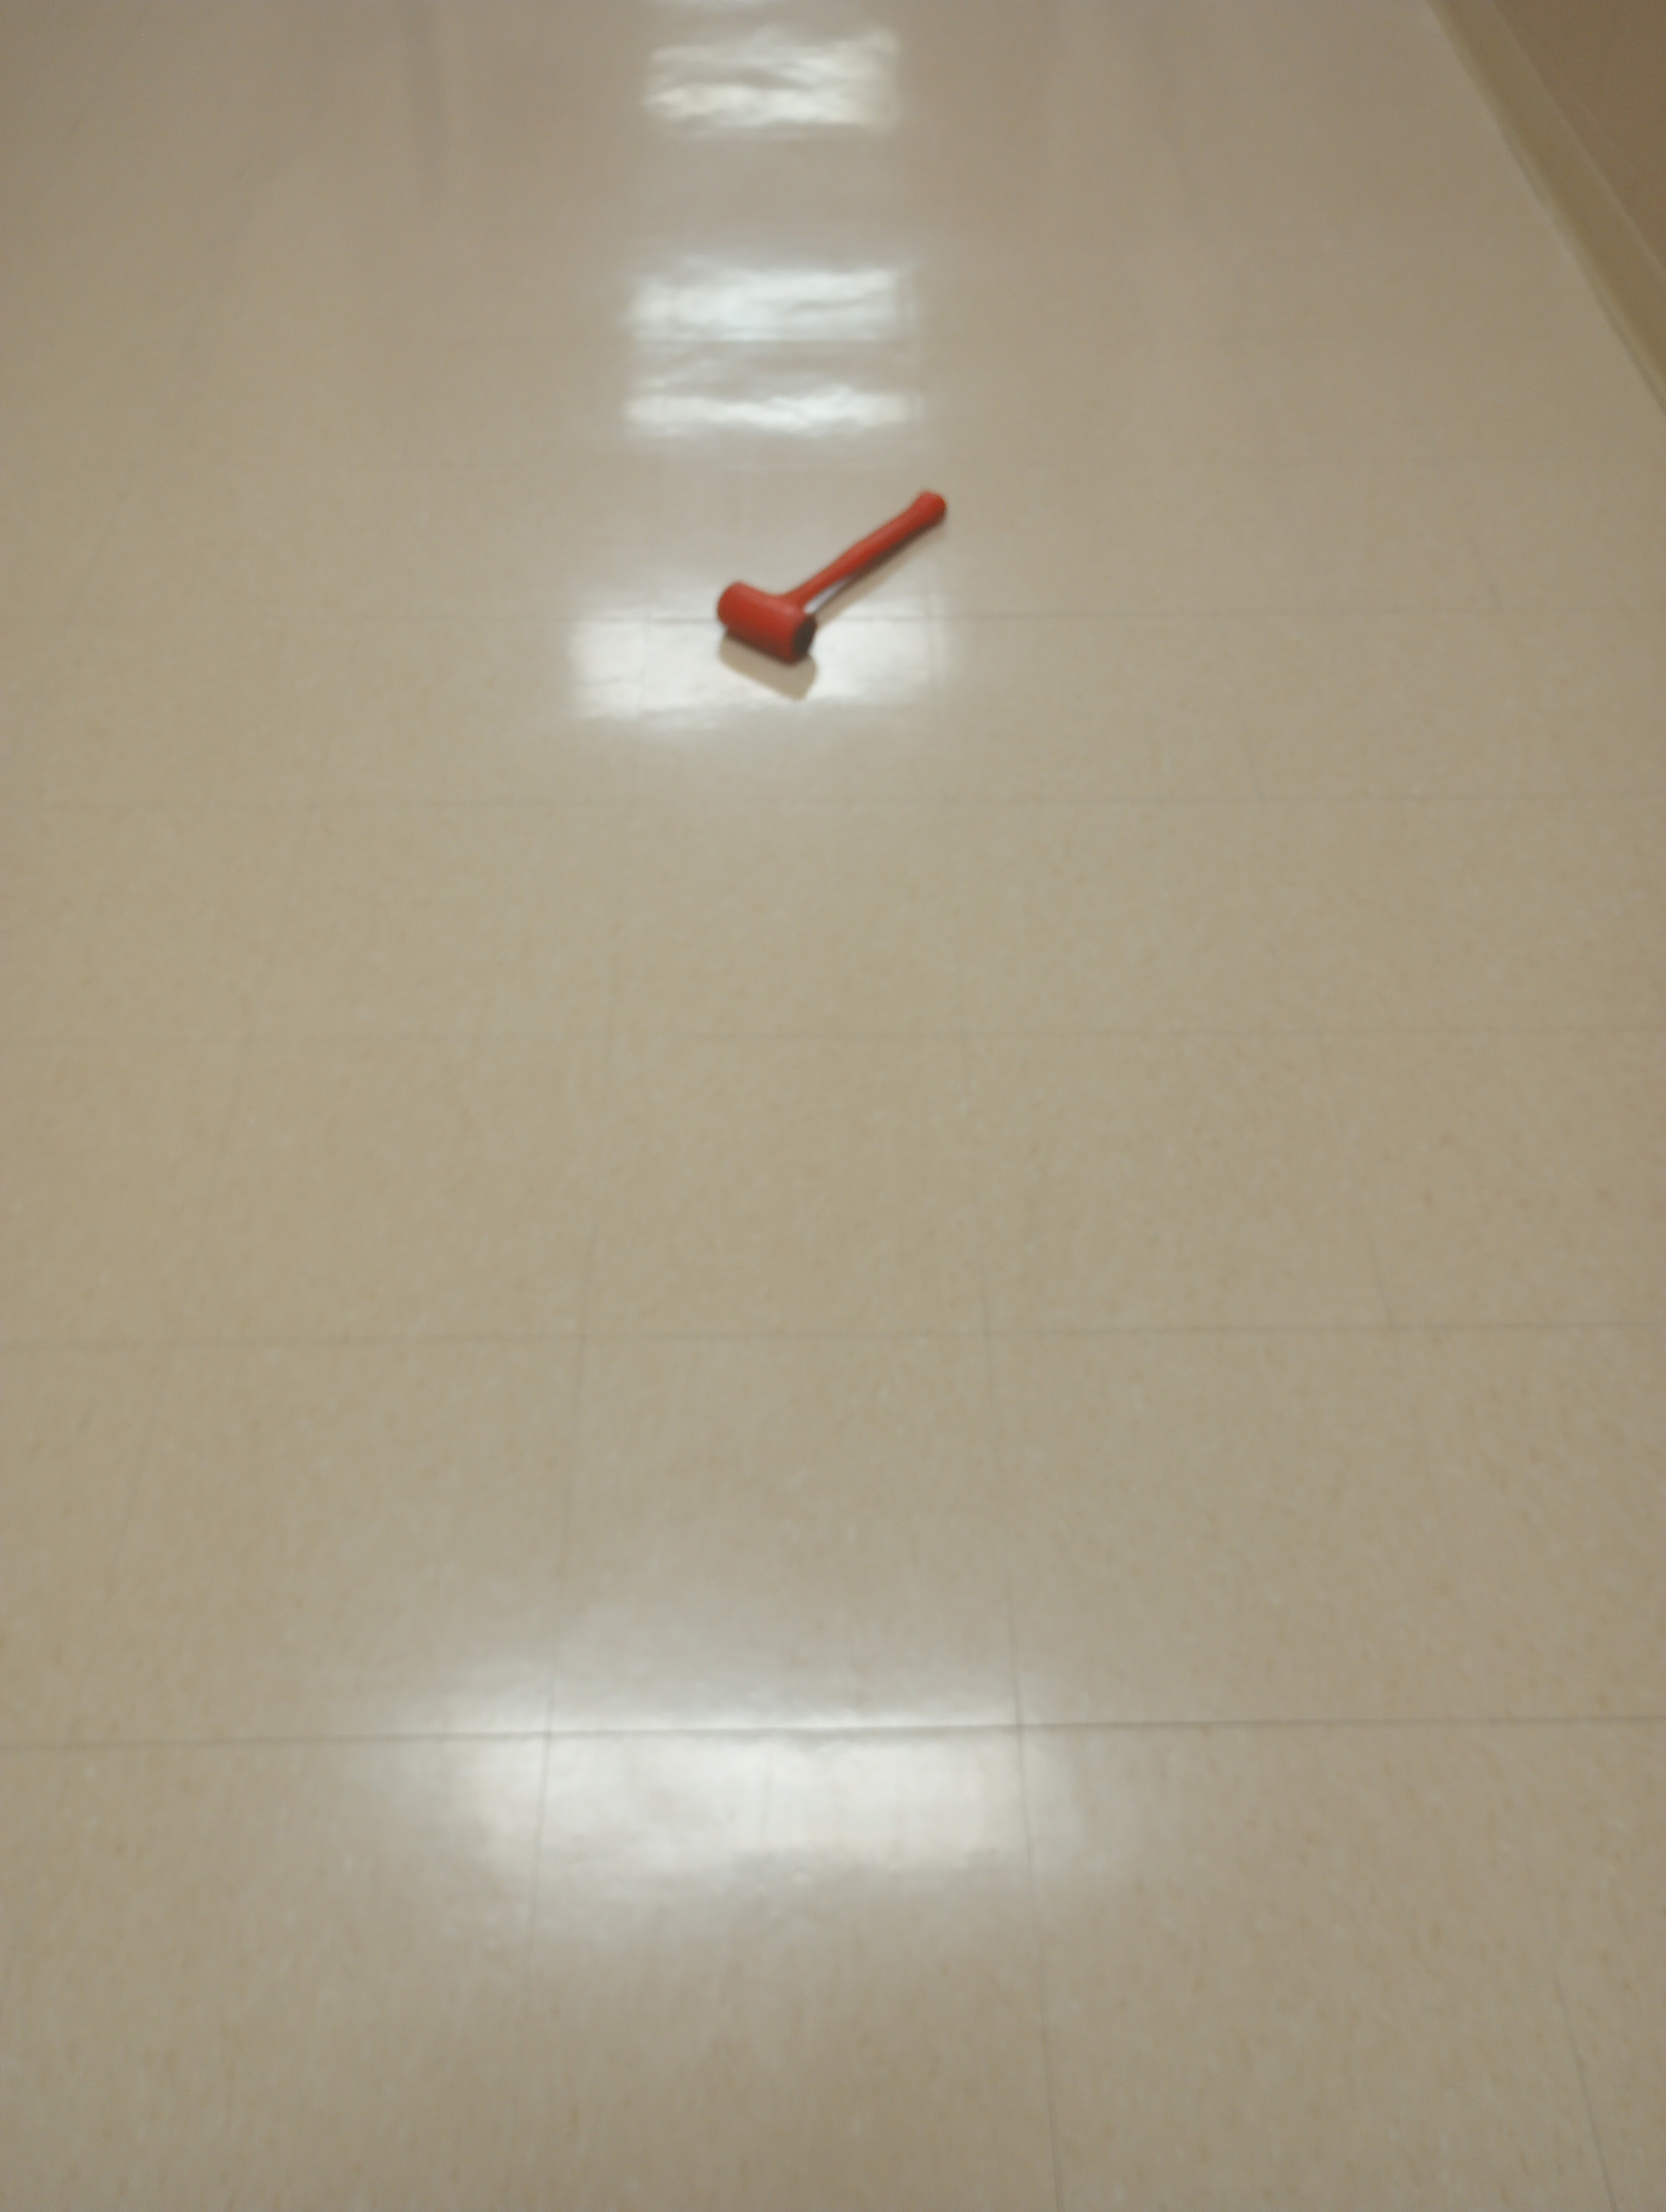bottle: (711, 477, 950, 685)
